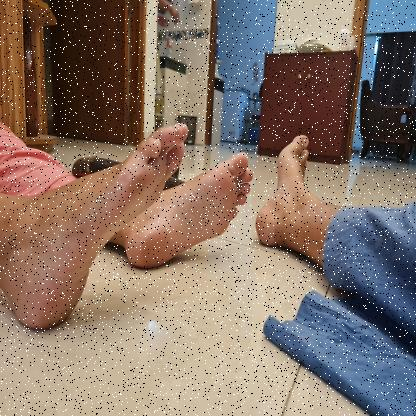leg: (0, 116, 191, 334), (124, 148, 256, 274), (253, 128, 333, 264)
